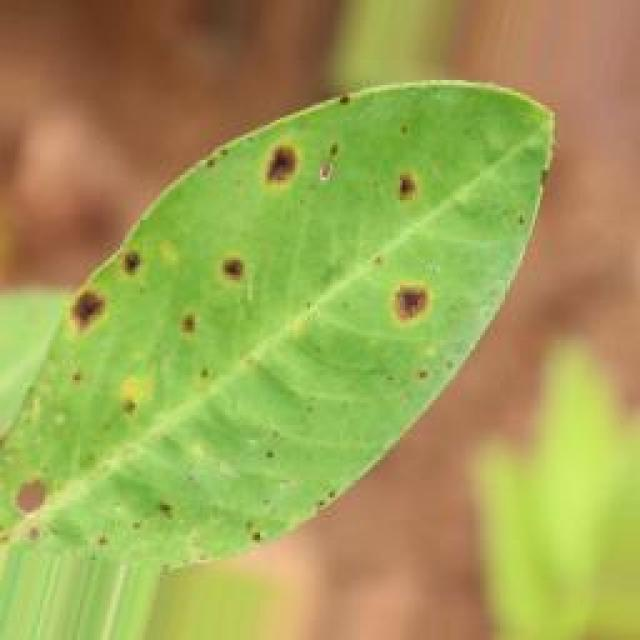Early_leaf_spot: (1, 226, 144, 325), (9, 392, 100, 531), (216, 108, 342, 194), (356, 116, 445, 236), (82, 331, 166, 419), (363, 236, 439, 332), (199, 232, 288, 310), (498, 138, 572, 227), (168, 292, 232, 364), (298, 75, 372, 137)
